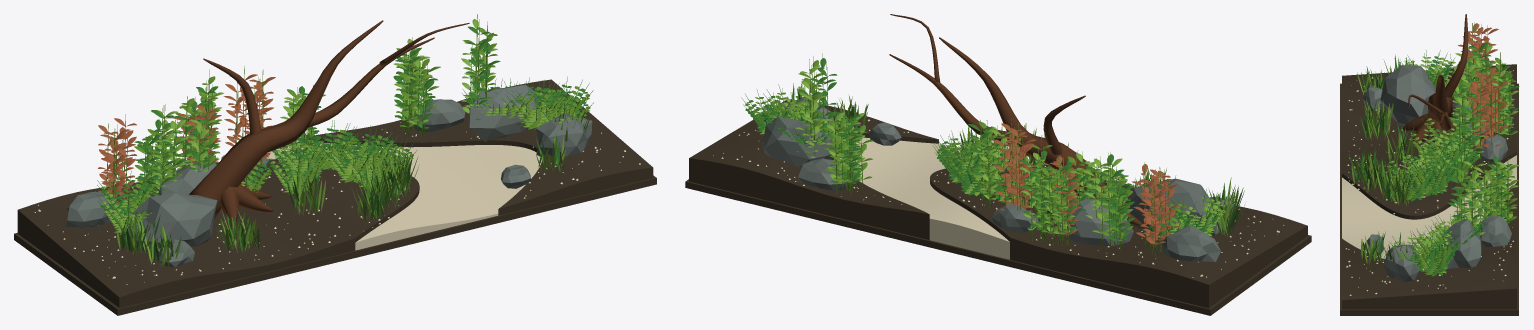
File: hardscape.glb
The picture shows the model from 3 angles, left to right: view 1: azimuth 30°, elevation 25°; view 2: azimuth 150°, elevation 25°; view 3: azimuth 270°, elevation 25°; orthographic projection. The views are drawn at different scales.
Parts seen in each view (by area): view 1: bed.left, bed.path, bed.right, hardscape.wood.angular, bed.foundation, hardscape.stone.00, hardscape.stone.04, plants.stem.049, plants.stem.015, plants.stem.027, hardscape.stone.05, plants.stem.047 (+42 smaller); view 2: bed.left, bed.right, bed.path, bed.foundation, hardscape.wood.angular, hardscape.stone.04, plants.stem.015, plants.stem.027, plants.stem.020, hardscape.stone.00, plants.stem.022, plants.stem.039 (+18 smaller); view 3: bed.right, bed.left, bed.path, hardscape.stone.00, hardscape.wood.angular, bed.foundation, plants.stem.020, plants.stem.027, hardscape.stone.04, plants.stem.021, plants.stem.049, plants.stem.016 (+52 smaller).
Part boxes in pixels (x1=…): bed.left: x1=17, y1=159, x2=419, y2=307; bed.path: x1=266, y1=142, x2=541, y2=250; bed.right: x1=309, y1=79, x2=653, y2=215; hardscape.wood.angular: x1=189, y1=20, x2=469, y2=226; bed.foundation: x1=14, y1=175, x2=656, y2=315; hardscape.stone.00: x1=128, y1=193, x2=217, y2=252; hardscape.stone.04: x1=468, y1=84, x2=536, y2=141; plants.stem.049: x1=393, y1=53, x2=440, y2=136; plants.stem.015: x1=98, y1=114, x2=136, y2=202; plants.stem.027: x1=461, y1=14, x2=500, y2=134; hardscape.stone.05: x1=535, y1=114, x2=592, y2=156; plants.stem.047: x1=134, y1=129, x2=177, y2=195; bed.left: x1=930, y1=164, x2=1307, y2=308; bed.right: x1=689, y1=99, x2=938, y2=239; bed.path: x1=832, y1=137, x2=1048, y2=259; bed.foundation: x1=685, y1=179, x2=1311, y2=315; hardscape.wood.angular: x1=889, y1=14, x2=1141, y2=225; hardscape.stone.04: x1=763, y1=116, x2=837, y2=167; plants.stem.015: x1=1131, y1=162, x2=1181, y2=255; plants.stem.027: x1=794, y1=53, x2=837, y2=159; plants.stem.020: x1=991, y1=118, x2=1036, y2=212; hardscape.stone.00: x1=1126, y1=178, x2=1220, y2=234; plants.stem.022: x1=1039, y1=160, x2=1076, y2=245; plants.stem.039: x1=822, y1=107, x2=862, y2=194; bed.right: x1=1342, y1=183, x2=1516, y2=309; bed.left: x1=1342, y1=64, x2=1516, y2=219; bed.path: x1=1342, y1=155, x2=1516, y2=258; hardscape.stone.00: x1=1380, y1=65, x2=1435, y2=125; hardscape.wood.angular: x1=1403, y1=14, x2=1469, y2=147; bed.foundation: x1=1340, y1=83, x2=1518, y2=315; plants.stem.020: x1=1467, y1=64, x2=1509, y2=159; plants.stem.027: x1=1446, y1=150, x2=1486, y2=236; hardscape.stone.04: x1=1441, y1=219, x2=1481, y2=268; plants.stem.021: x1=1448, y1=96, x2=1486, y2=170; plants.stem.049: x1=1472, y1=164, x2=1512, y2=223; plants.stem.016: x1=1491, y1=52, x2=1519, y2=144.
Bounding box in the file's own units: 0.882 × 0.272 × 0.2955.
